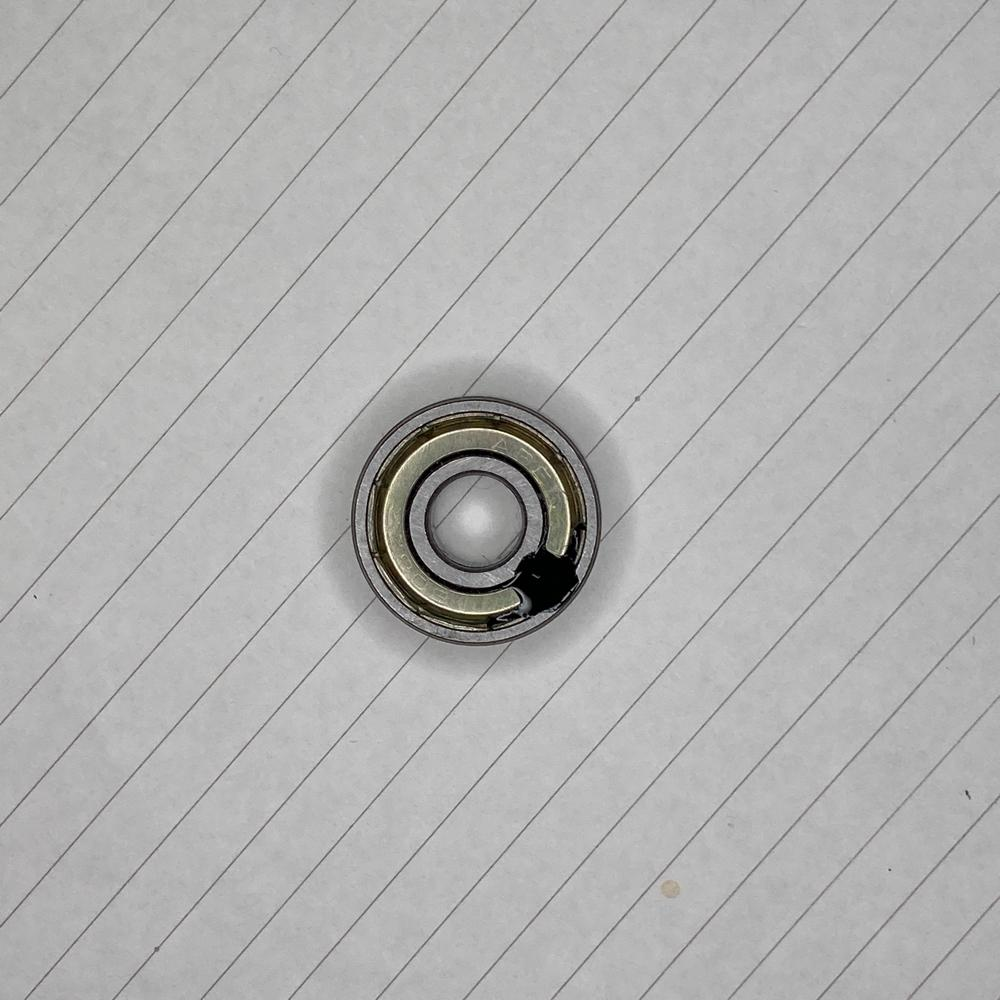ball_bearing_oil_stain: (349, 395, 604, 648)
